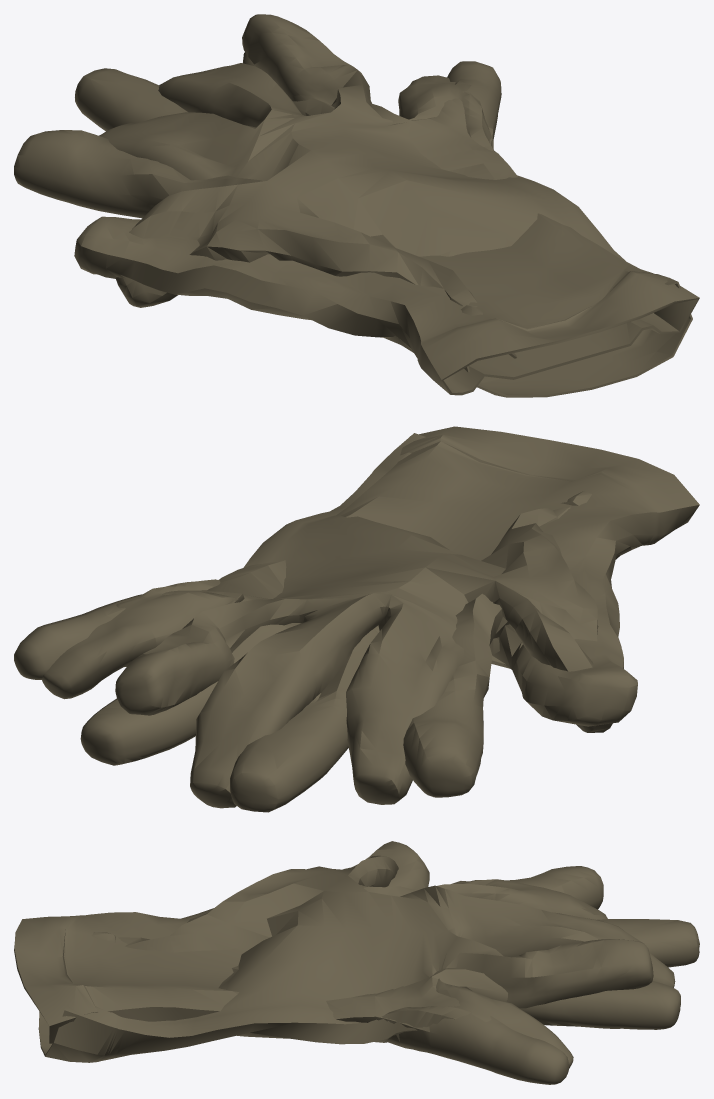
Rendered from sarung_tangan_latex.fbx.
3 views of the same model, one above another, from view 1: azimuth 30°, elevation 25°; view 2: azimuth 150°, elevation 25°; view 3: azimuth 270°, elevation 25° (orthographic). The views are drawn at different scales.
Parts seen in each view (by area): view 1: Sarung_tangan_2:Layer2, Sarung_tangan_2:LatexGlovesa; view 2: Sarung_tangan_2:Layer2, Sarung_tangan_2:LatexGlovesa; view 3: Sarung_tangan_2:Layer2, Sarung_tangan_2:LatexGlovesa.
Part boxes in pixels (x1,y1,x2,y2): Sarung_tangan_2:Layer2: (99,14,692,397); Sarung_tangan_2:LatexGlovesa: (14,52,699,395); Sarung_tangan_2:Layer2: (42,433,612,808); Sarung_tangan_2:LatexGlovesa: (14,426,699,812); Sarung_tangan_2:Layer2: (38,855,675,1068); Sarung_tangan_2:LatexGlovesa: (14,841,699,1084).
Size of the model in its own units: 15.62 by 3.7 by 21.55.
